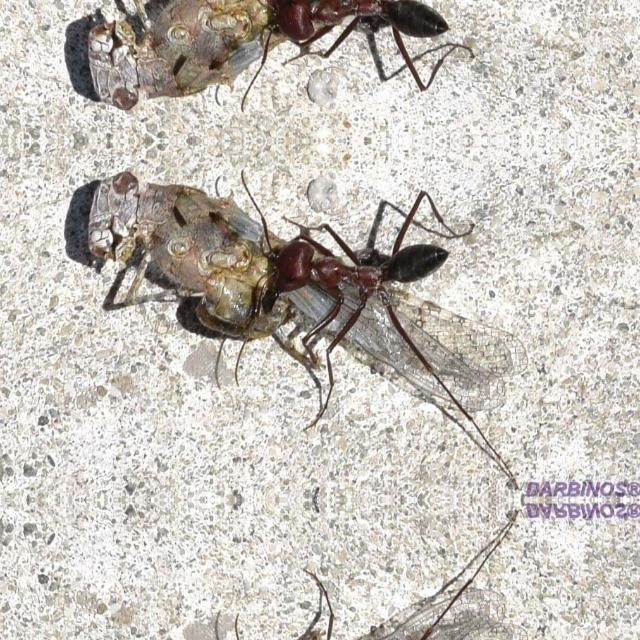Cataglyphis: (252, 212, 480, 360), (252, 0, 478, 68)
